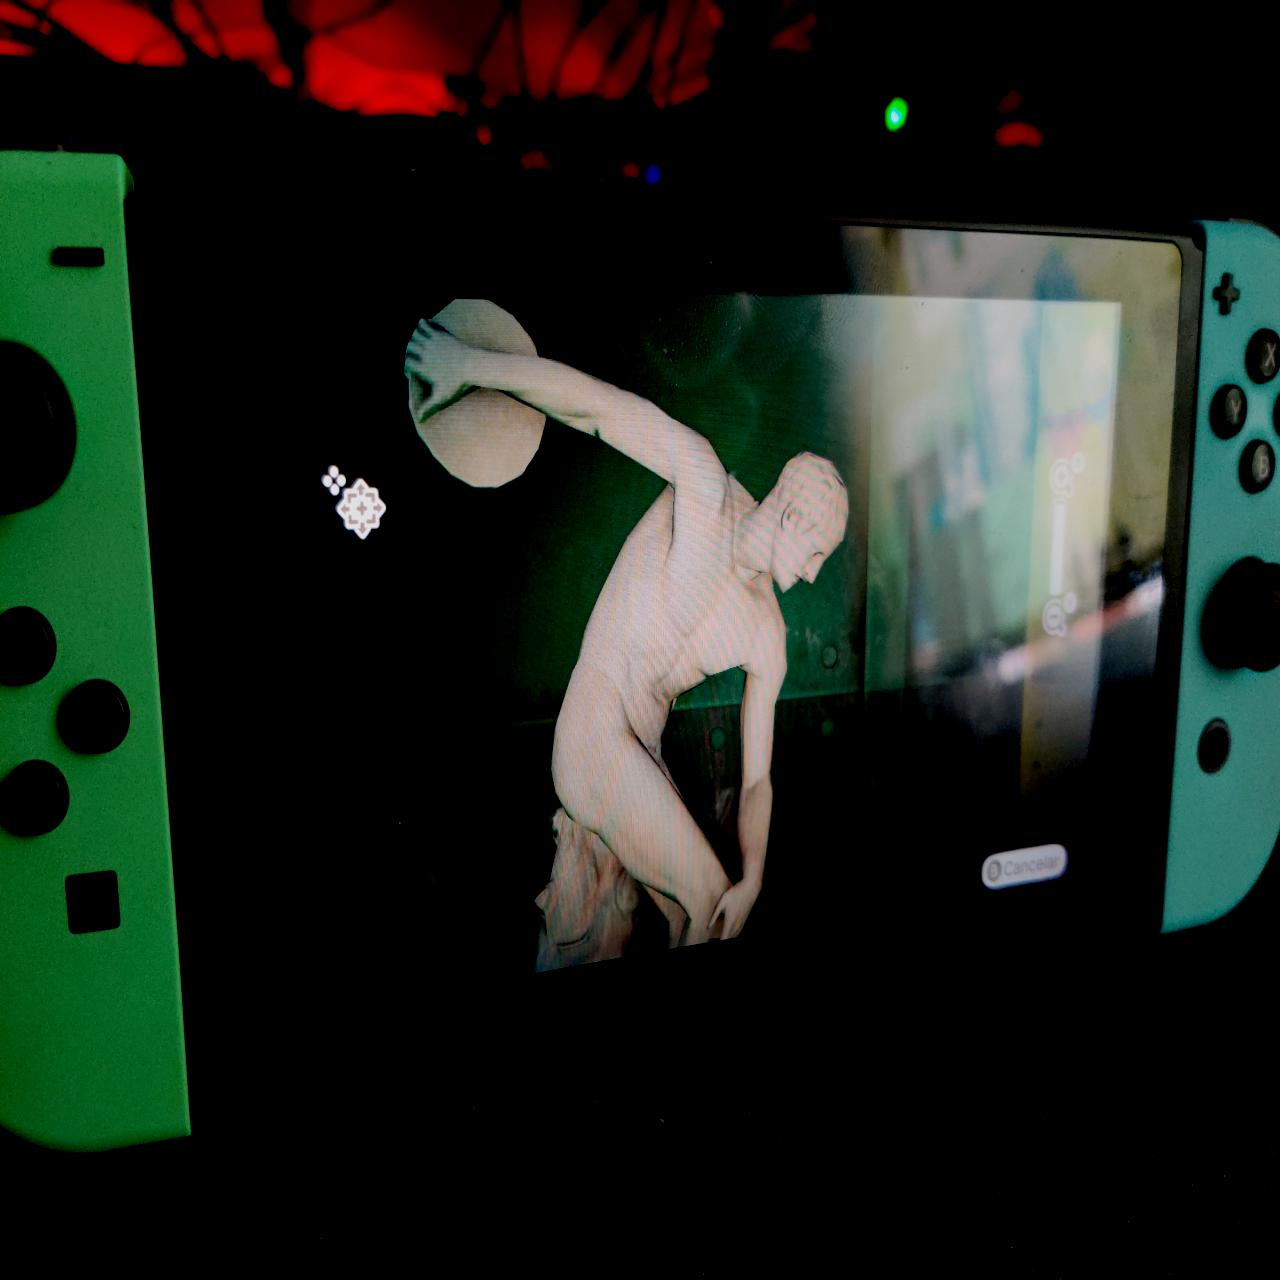Diskobolos: (399, 290, 858, 960)
